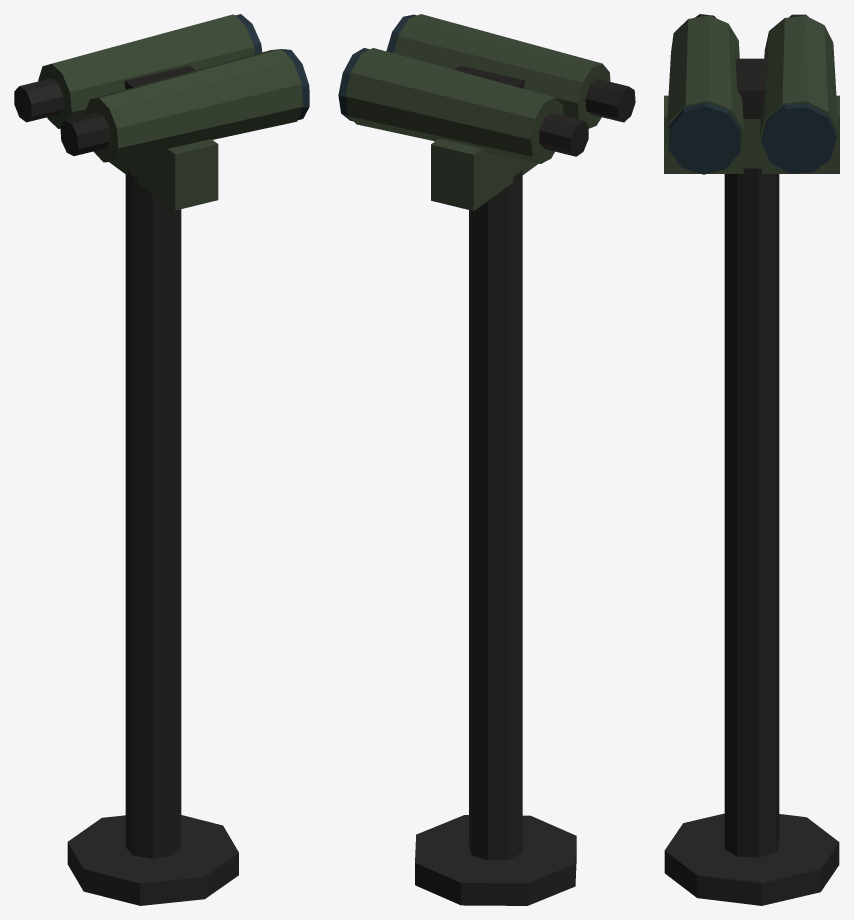
Rendered from binoculars.glb.
3 renders of one model, left to right at view 1: azimuth 30°, elevation 25°; view 2: azimuth 150°, elevation 25°; view 3: azimuth 270°, elevation 25°, orthographic.
Parts seen in each view (by area): view 1: binoculars; view 2: binoculars; view 3: binoculars.
Boxes of the visible parts, x1,y1,x2,y2 form: binoculars: (14, 14, 309, 905); binoculars: (338, 14, 635, 905); binoculars: (664, 14, 839, 905).
Bounding box in the file's own units: 0.415 × 1.46 × 0.28.
